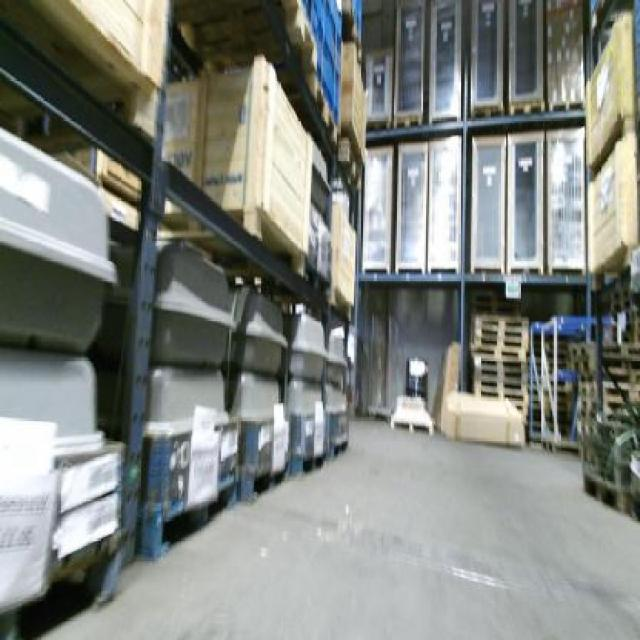pallet: (388, 414, 442, 442), (505, 96, 551, 122), (392, 112, 431, 134)
